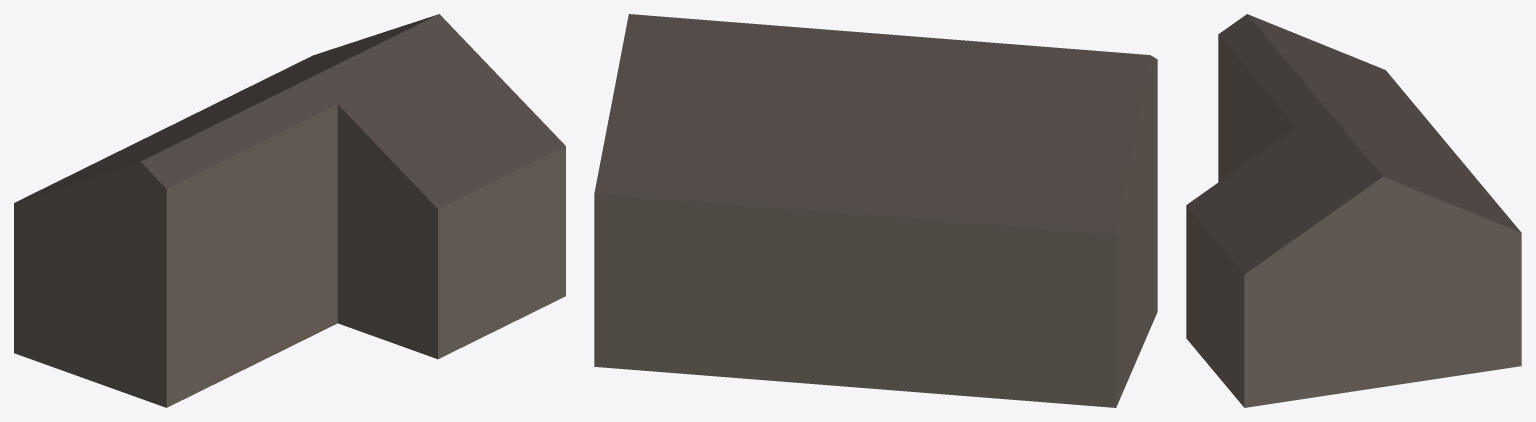
3 renders of one model, left to right at view 1: azimuth 30°, elevation 25°; view 2: azimuth 150°, elevation 25°; view 3: azimuth 270°, elevation 25°, orthographic. The views are drawn at different scales.
Visible parts, largest first — view 1: HP-w859457365; view 2: HP-w859457365; view 3: HP-w859457365.
Part boxes in pixels (left/top/right/bottom): HP-w859457365: left=14, top=14, right=565, bottom=407; HP-w859457365: left=594, top=14, right=1157, bottom=407; HP-w859457365: left=1186, top=14, right=1521, bottom=407.
Size of the model in its own units: 19.75 by 9.47 by 13.68.
